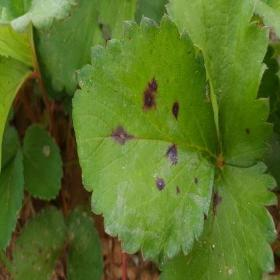Leaf Spot: (71, 12, 220, 261), (164, 0, 274, 168), (155, 161, 279, 279), (11, 205, 69, 279)
